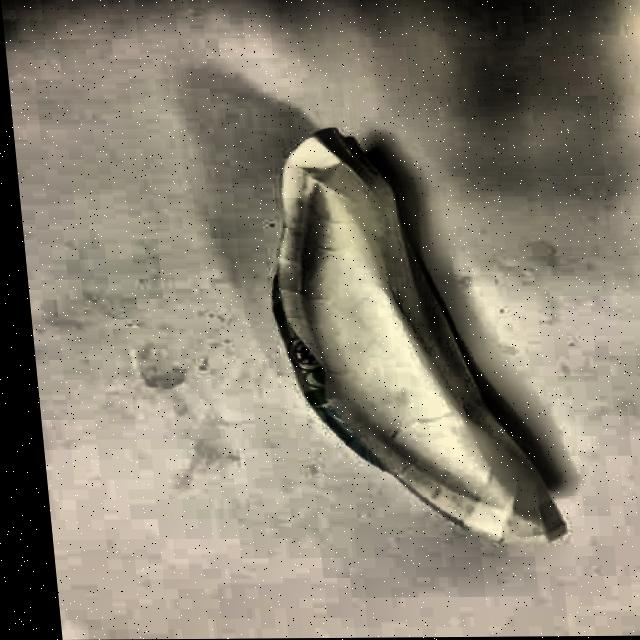paper: (250, 125, 569, 552)
